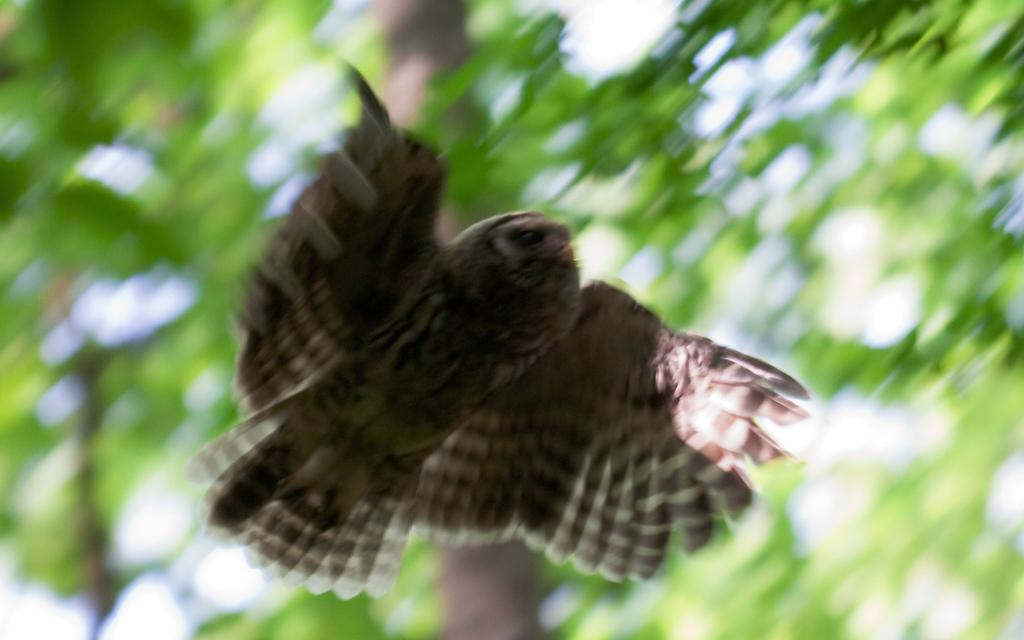Owl: (185, 66, 817, 604)
